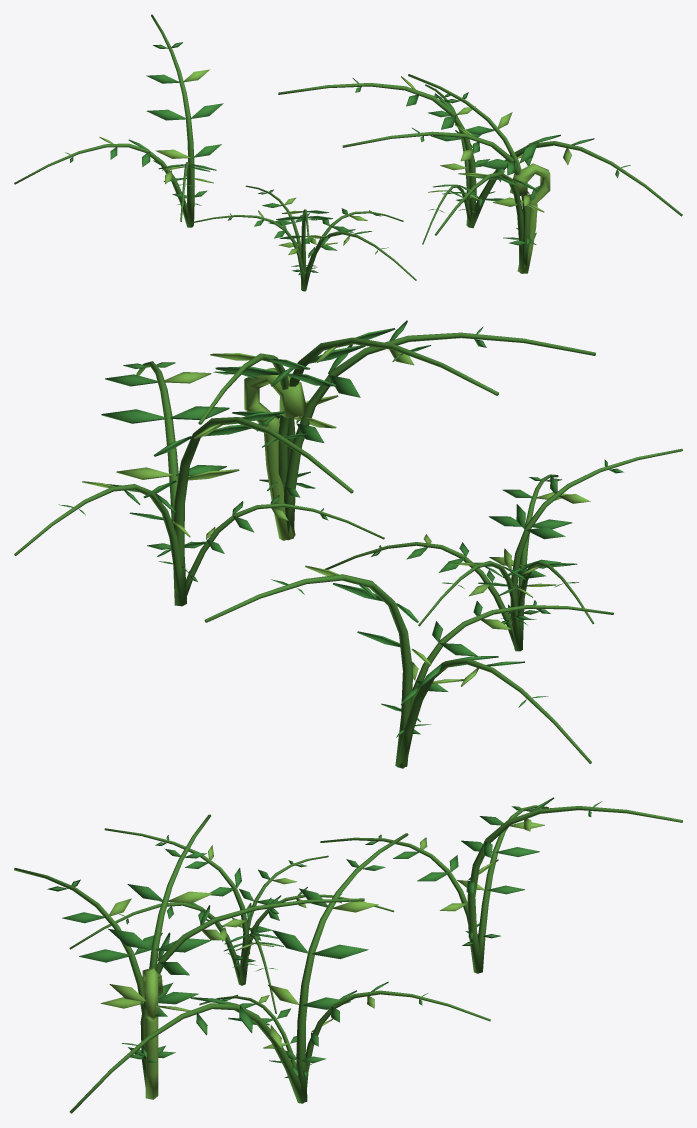
File: canopy_gc_fernlets_b.glb
The picture shows the model from 3 angles, top to bottom: view 1: azimuth 30°, elevation 25°; view 2: azimuth 150°, elevation 25°; view 3: azimuth 270°, elevation 25°; orthographic projection. The views are drawn at different scales.
Visible parts, largest first — view 1: canopy_gc_fernlets_b; view 2: canopy_gc_fernlets_b; view 3: canopy_gc_fernlets_b.
Boxes of the visible parts, bbox=[...] form: canopy_gc_fernlets_b: bbox=[14, 14, 682, 291]; canopy_gc_fernlets_b: bbox=[14, 320, 682, 768]; canopy_gc_fernlets_b: bbox=[14, 797, 682, 1113].
Bounding box in the file's own units: 5.92 × 1.8 × 5.7.
